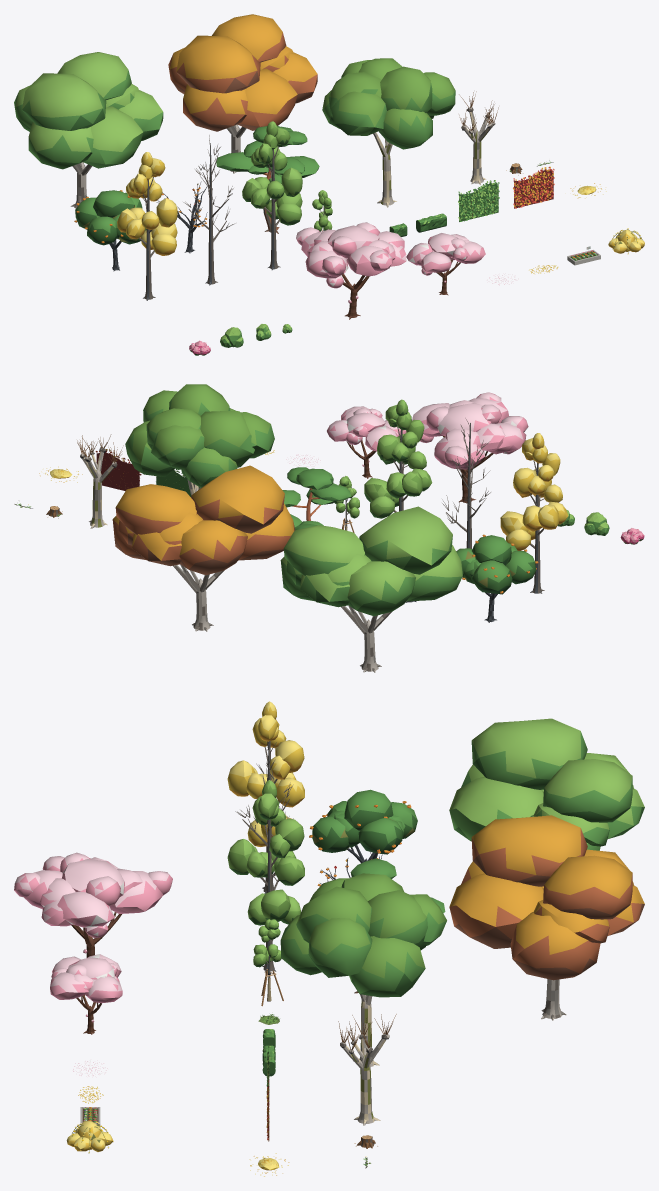
Rendered from SeoulCorner_Nature.glb.
The picture shows the model from 3 angles, top to bottom: view 1: azimuth 30°, elevation 25°; view 2: azimuth 150°, elevation 25°; view 3: azimuth 270°, elevation 25°; orthographic projection. The views are drawn at different scales.
Visible parts, largest first — view 1: SC_Nat_Zelkova, SC_Nat_Zelkova_Autumn, SC_Nat_Plane_Tree, SC_Nat_Cherry_Blossom, SC_Nat_Ginkgo_Autumn, SC_Nat_Ginkgo_Green, SC_Nat_Persimmon, SC_Nat_Cherry_Blossom_Small, SC_Nat_Pine_Korean, SC_Nat_Ivy_Wall_3m_Autumn, SC_Nat_Ivy_Wall_3m, SC_Nat_Ginkgo_Bare (+4 smaller); view 2: SC_Nat_Zelkova, SC_Nat_Zelkova_Autumn, SC_Nat_Plane_Tree, SC_Nat_Cherry_Blossom, SC_Nat_Ginkgo_Autumn, SC_Nat_Ginkgo_Green, SC_Nat_Persimmon, SC_Nat_Cherry_Blossom_Small, SC_Nat_Pine_Korean, SC_Nat_Plane_Tree_Pollarded, SC_Nat_Ginkgo_Bare, SC_Nat_Ivy_Wall_3m_Autumn (+3 smaller); view 3: SC_Nat_Zelkova_Autumn, SC_Nat_Zelkova, SC_Nat_Plane_Tree, SC_Nat_Cherry_Blossom, SC_Nat_Ginkgo_Green, SC_Nat_Persimmon, SC_Nat_Ginkgo_Autumn, SC_Nat_Cherry_Blossom_Small, SC_Nat_Plane_Tree_Pollarded, SC_Nat_Ginkgo_Young, SC_Nat_Forsythia_Bush, SC_Nat_Pine_Korean.
Boxes of the visible parts, <box> form: SC_Nat_Zelkova: <box>14,52,163,208</box>; SC_Nat_Zelkova_Autumn: <box>168,14,317,173</box>; SC_Nat_Plane_Tree: <box>322,58,455,207</box>; SC_Nat_Cherry_Blossom: <box>296,222,406,319</box>; SC_Nat_Ginkgo_Autumn: <box>117,152,177,300</box>; SC_Nat_Ginkgo_Green: <box>242,121,302,270</box>; SC_Nat_Persimmon: <box>74,190,146,271</box>; SC_Nat_Cherry_Blossom_Small: <box>406,233,485,295</box>; SC_Nat_Pine_Korean: <box>216,125,319,233</box>; SC_Nat_Ivy_Wall_3m_Autumn: <box>513,166,554,208</box>; SC_Nat_Ivy_Wall_3m: <box>458,180,499,221</box>; SC_Nat_Ginkgo_Bare: <box>183,135,235,285</box>; SC_Nat_Zelkova: <box>280,506,463,672</box>; SC_Nat_Zelkova_Autumn: <box>112,465,294,631</box>; SC_Nat_Plane_Tree: <box>125,384,274,495</box>; SC_Nat_Cherry_Blossom: <box>412,392,528,502</box>; SC_Nat_Ginkgo_Autumn: <box>500,433,568,593</box>; SC_Nat_Ginkgo_Green: <box>364,399,432,518</box>; SC_Nat_Persimmon: <box>456,534,538,622</box>; SC_Nat_Cherry_Blossom_Small: <box>327,406,406,478</box>; SC_Nat_Pine_Korean: <box>282,467,351,529</box>; SC_Nat_Plane_Tree_Pollarded: <box>77,434,123,528</box>; SC_Nat_Ginkgo_Bare: <box>442,418,490,548</box>; SC_Nat_Ivy_Wall_3m_Autumn: <box>95,449,141,490</box>; SC_Nat_Zelkova_Autumn: <box>449,815,644,1020</box>; SC_Nat_Zelkova: <box>449,718,644,850</box>; SC_Nat_Plane_Tree: <box>280,873,446,1066</box>; SC_Nat_Cherry_Blossom: <box>14,852,172,957</box>; SC_Nat_Ginkgo_Green: <box>227,780,304,972</box>; SC_Nat_Persimmon: <box>309,789,417,863</box>; SC_Nat_Ginkgo_Autumn: <box>227,701,304,893</box>; SC_Nat_Cherry_Blossom_Small: <box>50,954,122,1034</box>; SC_Nat_Plane_Tree_Pollarded: <box>338,1014,396,1125</box>; SC_Nat_Ginkgo_Young: <box>253,919,283,1006</box>; SC_Nat_Forsythia_Bush: <box>66,1120,113,1153</box>; SC_Nat_Pine_Korean: <box>350,858,445,993</box>.
Size of the model in its own units: 36.7 by 10.61 by 32.19.
2 materials, 2 textured.
